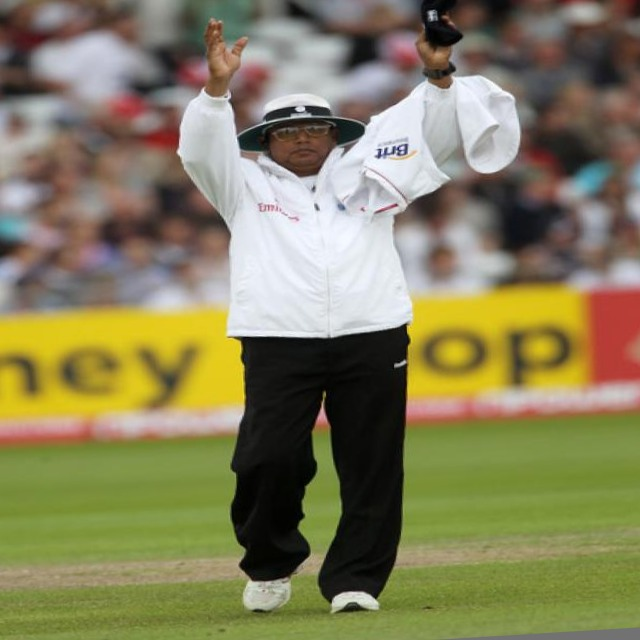Six: (140, 0, 557, 619)
